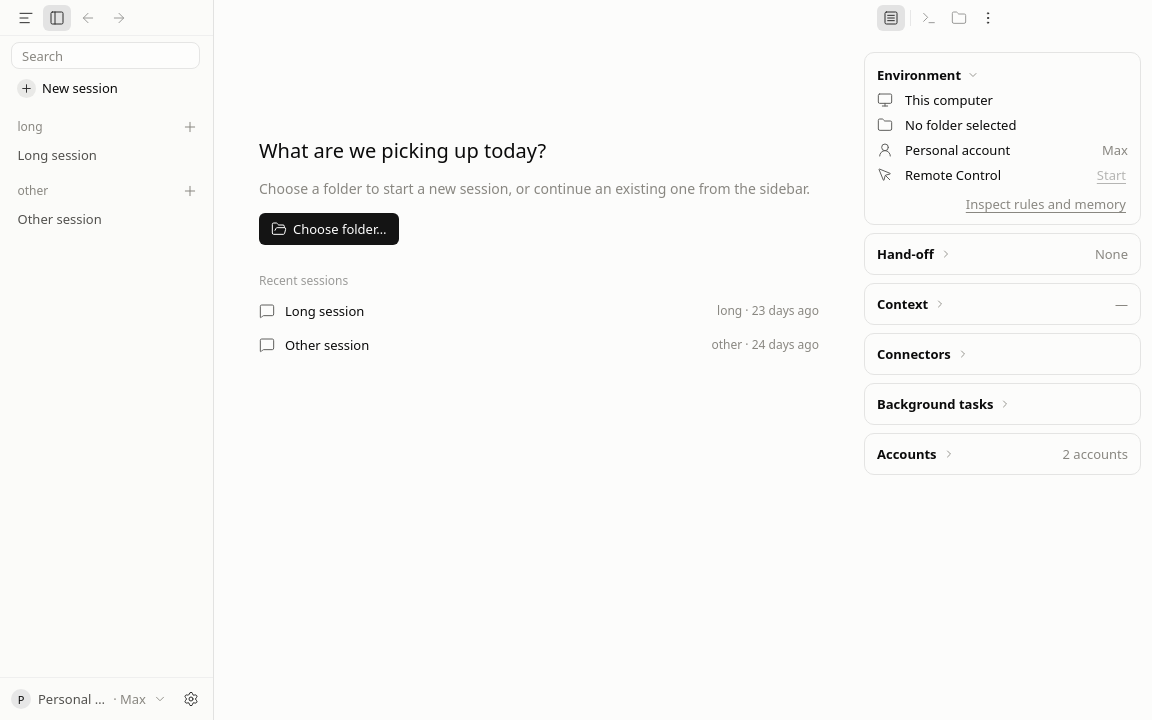
Scenario: Load earlier messages › prepends each older page in order above the shown items, without duplicates, until the session start
Click the button "Long session" at (106, 155), box [7,141,206,169]
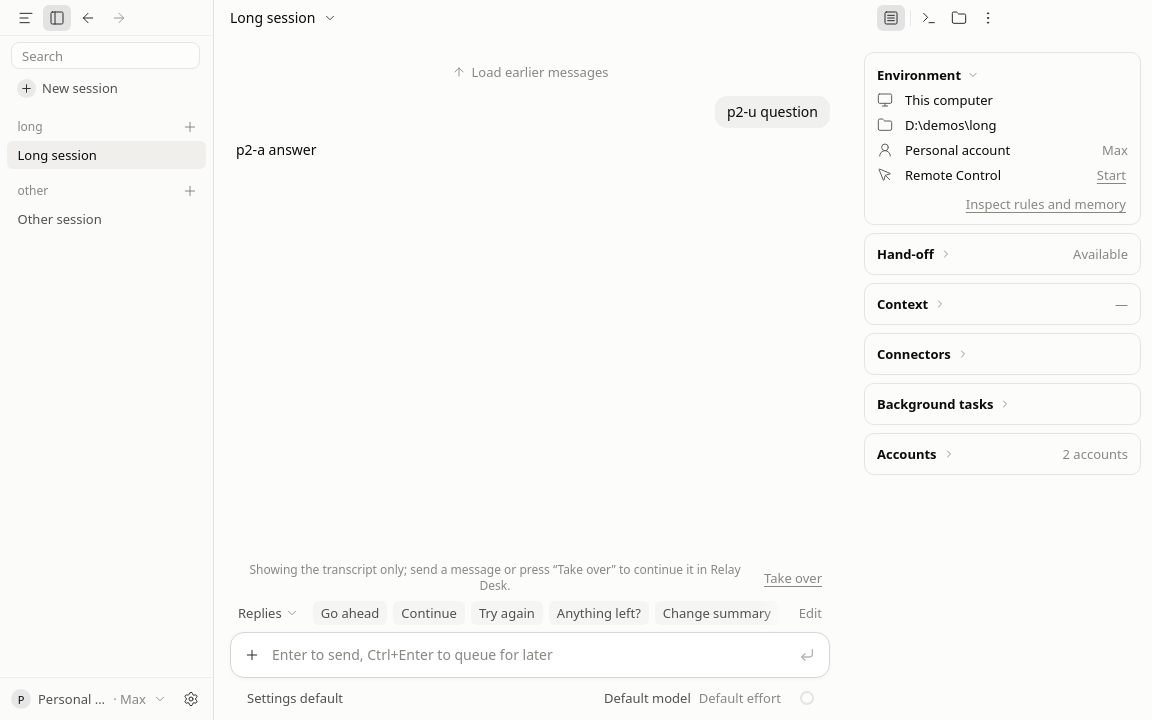
Now the text "p2-a answer" is shown, box [236,140,316,159]
Click the button "Load earlier messages" at (530, 72), box [444,60,616,84]
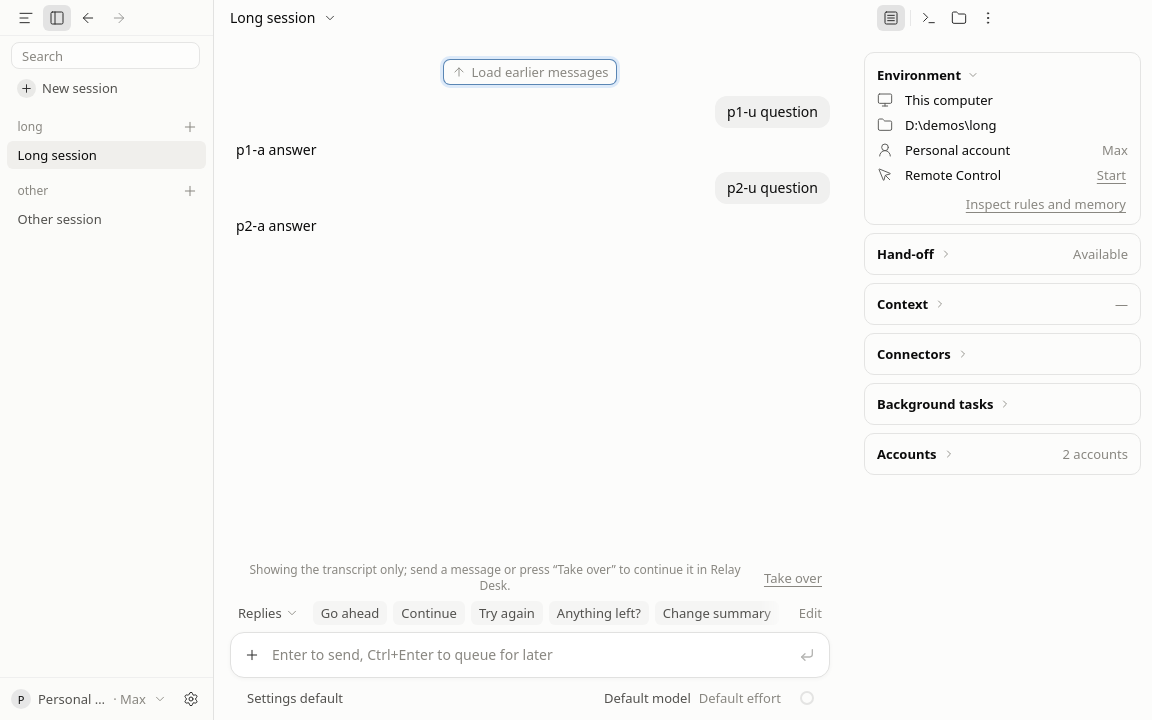
Now the text "p1-a answer" is shown, box [236,140,316,159]
Now the elements with test id "user-message" read "p1-u question", "p2-u question", in this order, box [715,96,830,128]; [715,172,830,204]
Click the button "Load earlier messages" at (530, 72), box [444,60,616,84]
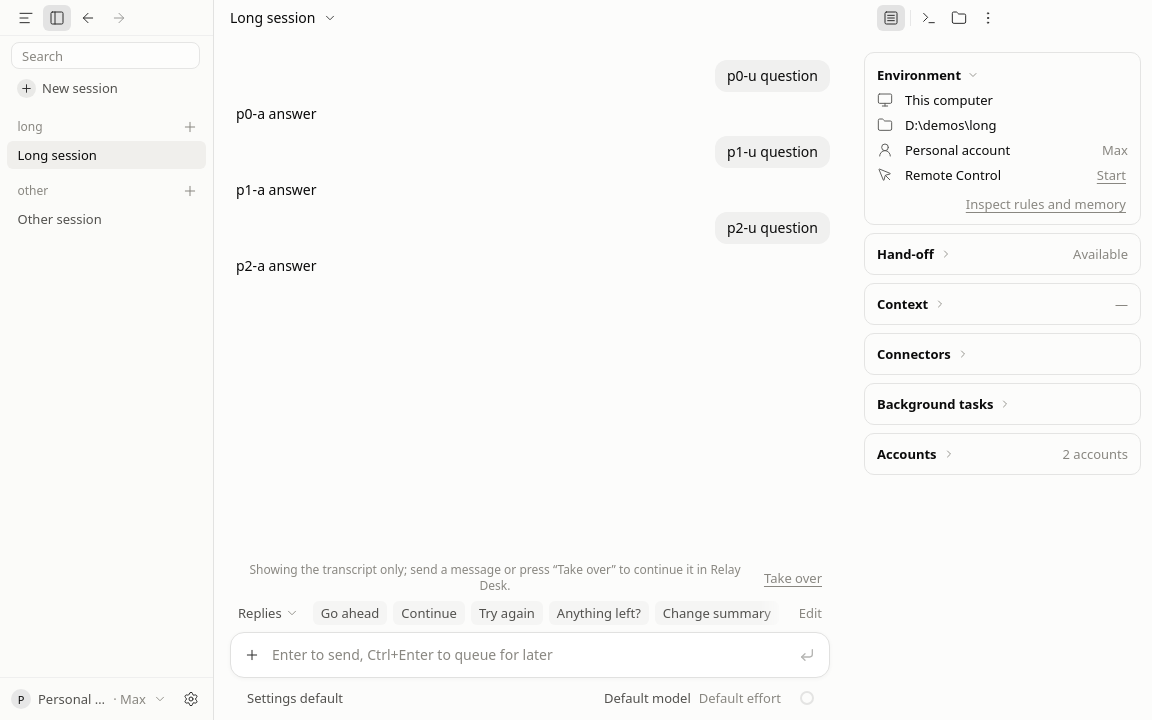
Now the text "p0-a answer" is shown, box [236,104,316,123]
Now the button "Load earlier messages" is gone
